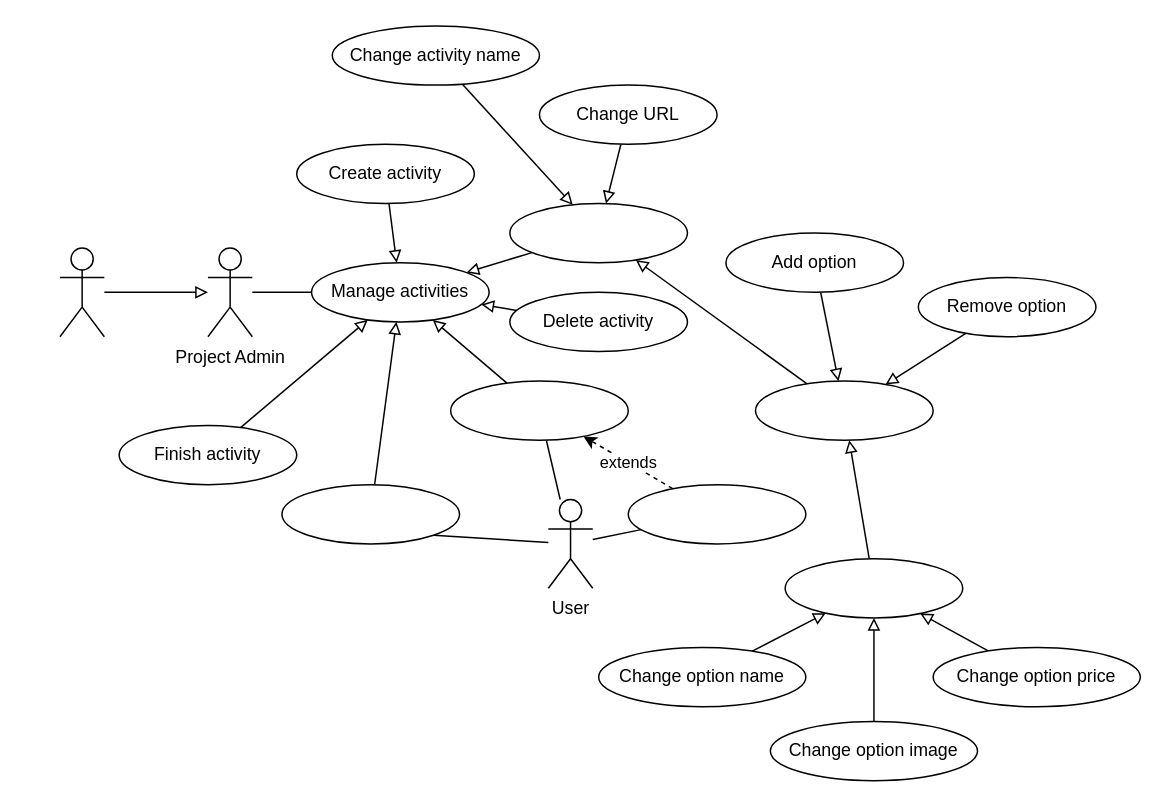
Image size: 1166x807. Some labels were removed from this diagram. The centre of each missing label's shape, as x and y in pixels:
"Edit activity" belongs at pixel 597 232.
"Edit option" belongs at pixel 873 587.
"Manage options" belongs at pixel 843 410.
"System Admin" belongs at pixel 81 291.
"View activity details" belongs at pixel 538 410.
"View list of activities" belongs at pixel 370 513.
"Vote for an option" belongs at pixel 716 513.
